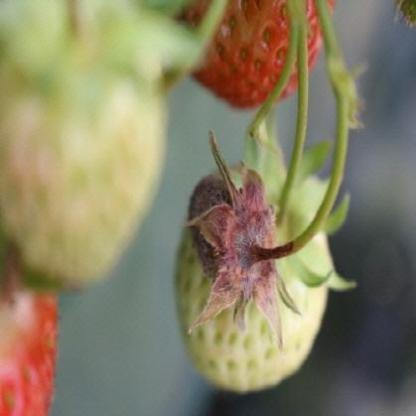Strawberry_Gray_Mold: (180, 127, 300, 353)
